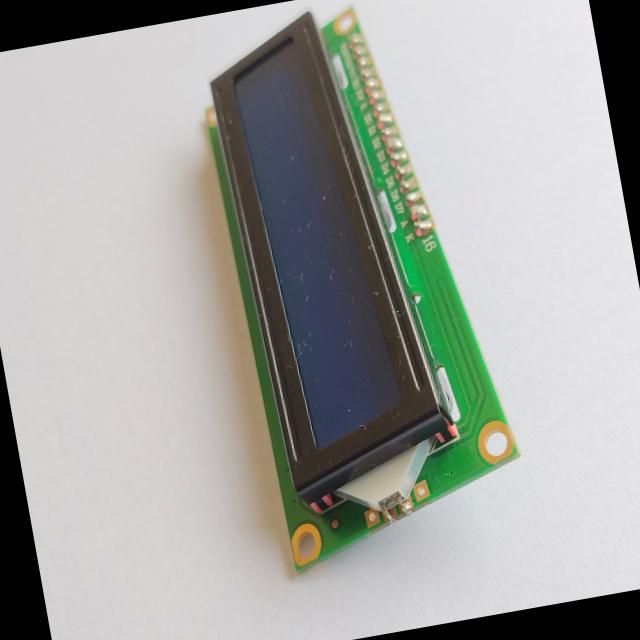lcd: (188, 0, 534, 575)
